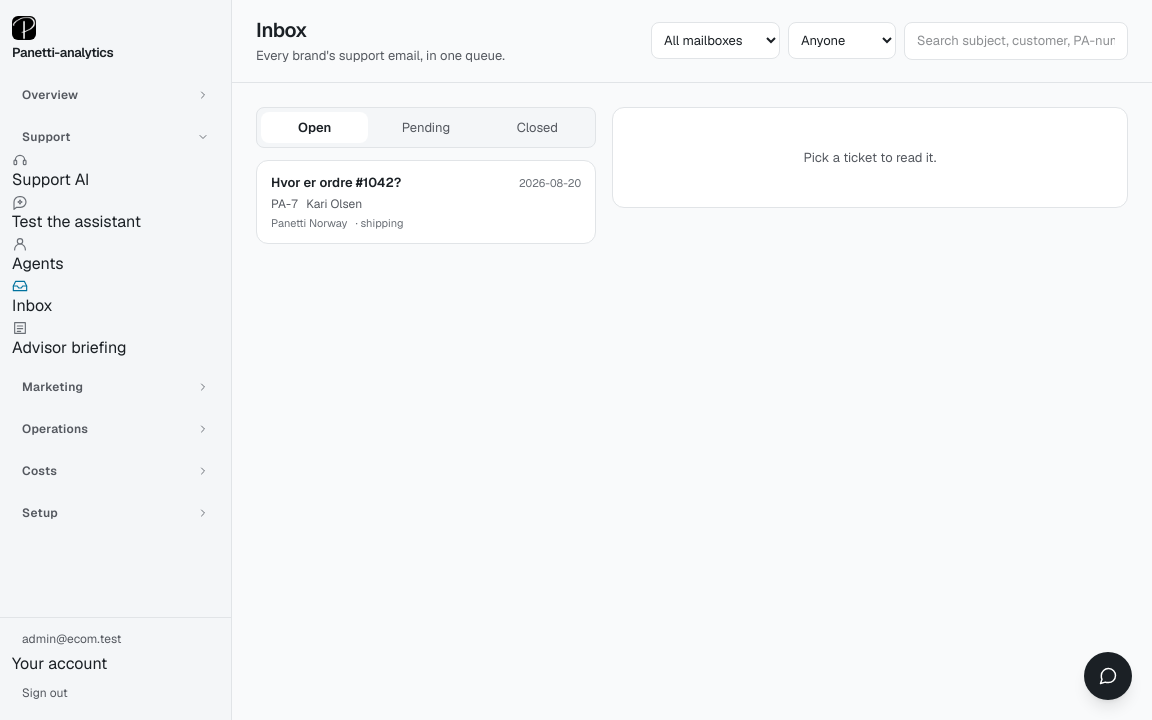
Test: InboxClient › lists the queue and opening a ticket shows the customer and their order
Click the button with test id "ticket-row" at (336, 182), box [257, 161, 595, 243]
(page scrolled)
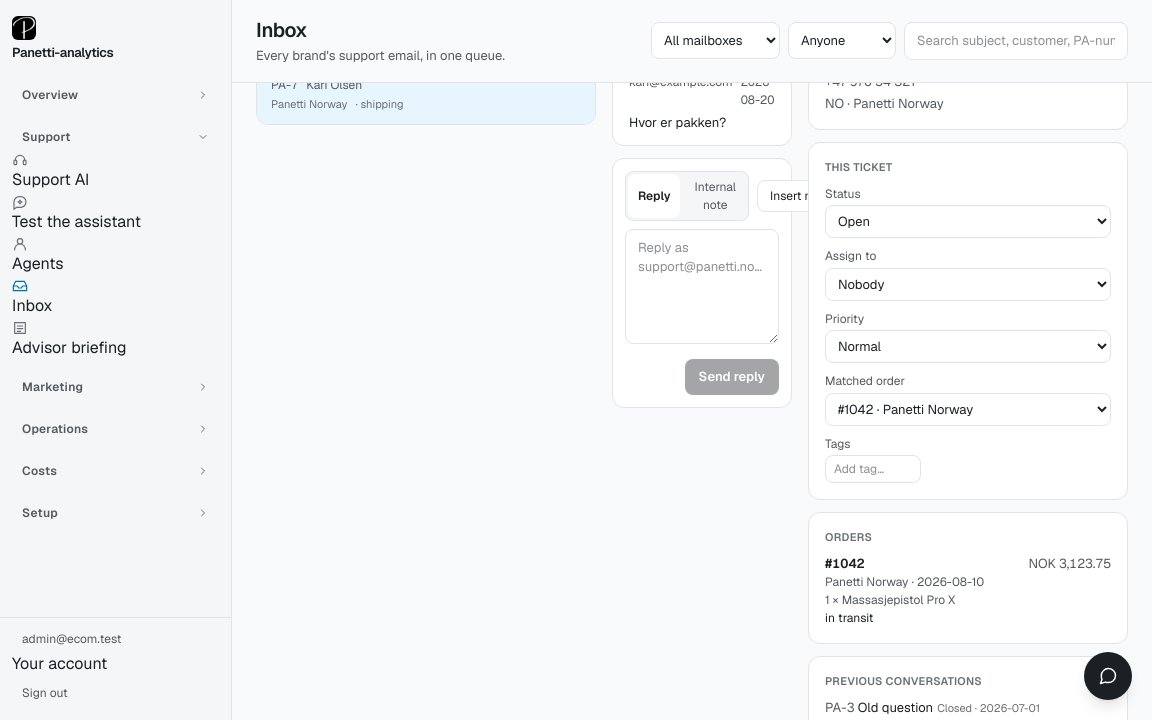
Check: the element with test id "ticket-sidebar" shows "#1042", box [825, 554, 865, 572]
Check: the element with test id "ticket-sidebar" shows "in transit", box [825, 610, 874, 626]
Check: the element with test id "ticket-sidebar" shows "Old question", box [825, 698, 1111, 717]
